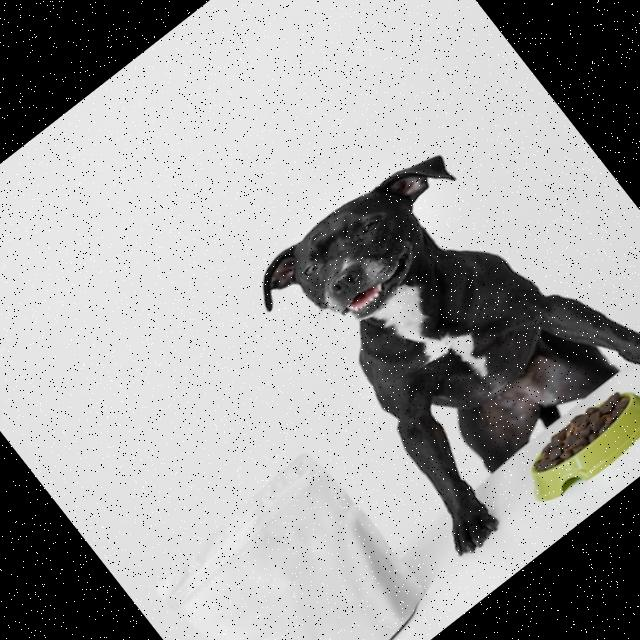Dog: (242, 77, 640, 561)
